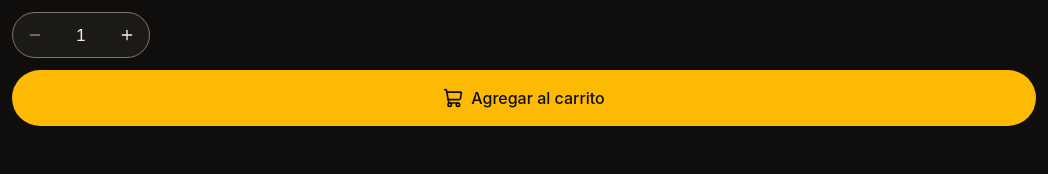
it: PurchaseForm › says the cart is not ready yet without an action
The image size is (1048, 174).
Click the button "Agregar al carrito". click: (524, 98)
box: [12,70,1036,126]
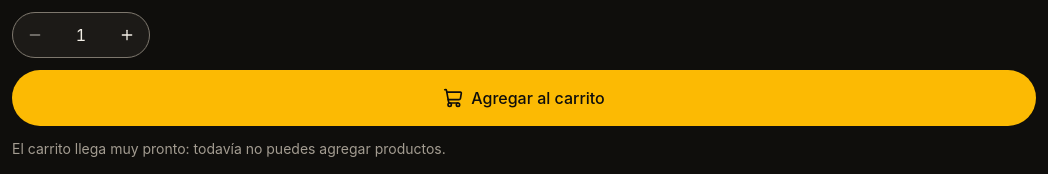
Check: the message shows "El carrito llega muy pronto", box [12,140,446,157]
